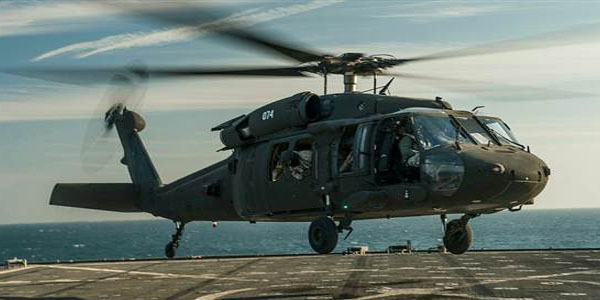MilitaryHelicopter: (58, 35, 569, 247)
